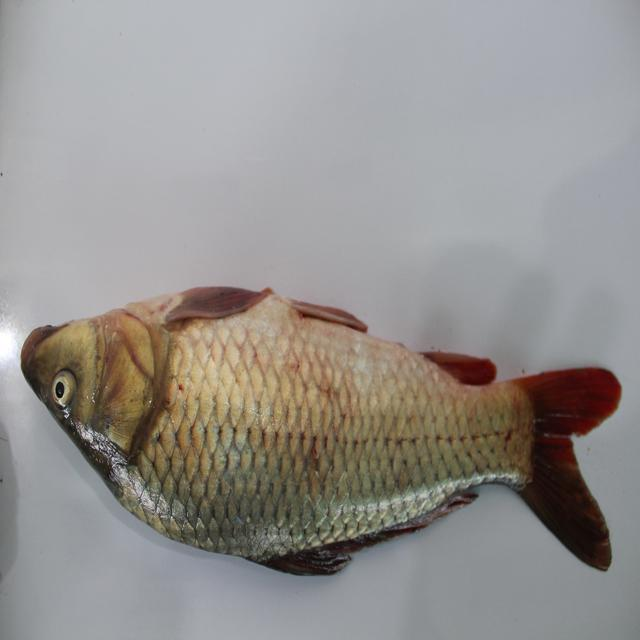CommonCarp: (15, 276, 624, 613)
